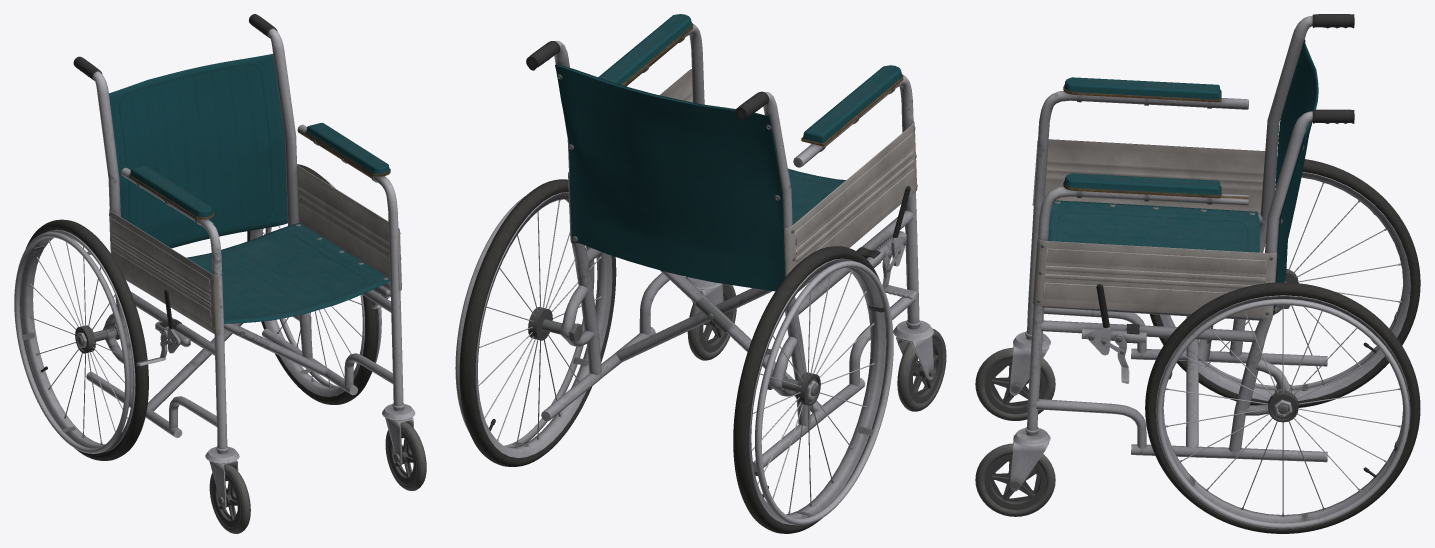
3 views of the same model, side by side, from view 1: azimuth 30°, elevation 25°; view 2: azimuth 150°, elevation 25°; view 3: azimuth 270°, elevation 25° (orthographic). The views are drawn at different scales.
Parts seen in each view (by area): view 1: wheelchair_01; view 2: wheelchair_01; view 3: wheelchair_01.
Boxes of the visible parts, x1=… form: wheelchair_01: x1=14, y1=14, x2=426, y2=533; wheelchair_01: x1=455, y1=14, x2=946, y2=533; wheelchair_01: x1=975, y1=14, x2=1420, y2=533.
Bounding box in the file's own units: 0.8241 × 1.1 × 1.09.
1 material, 1 textured.
